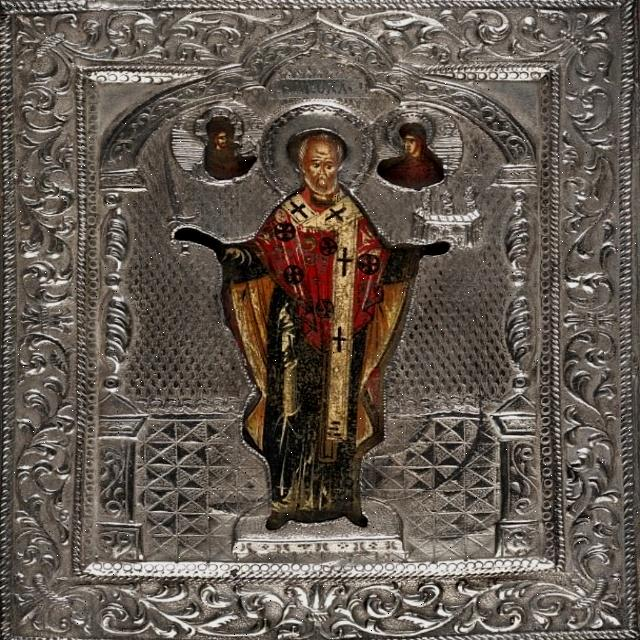aura: (266, 98, 375, 198), (388, 108, 437, 148), (197, 107, 242, 144)
cross: (336, 246, 354, 282), (332, 324, 349, 356), (324, 204, 348, 221), (292, 203, 311, 221)
saint: (262, 97, 379, 530)
